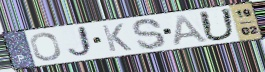A: (172, 14, 212, 47)
J: (65, 25, 96, 59)
K: (100, 22, 134, 53)
O: (29, 31, 63, 62)
S: (131, 17, 169, 51)
U: (197, 7, 238, 42)
